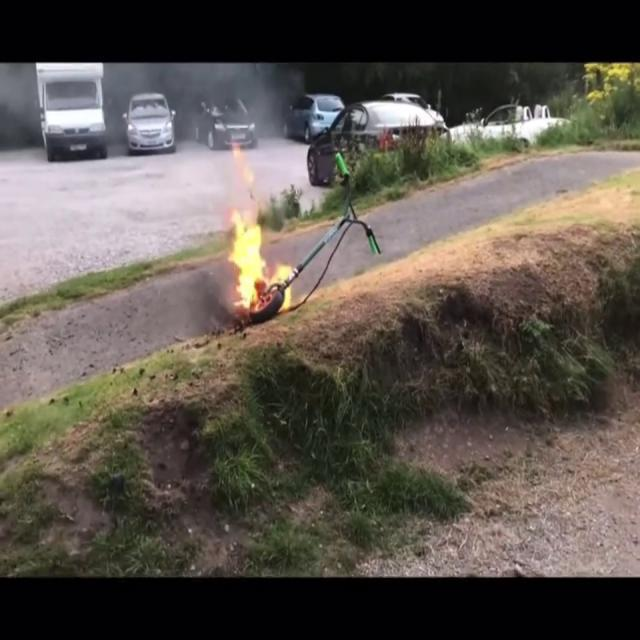Fire: (220, 154, 272, 312), (269, 254, 296, 309)
